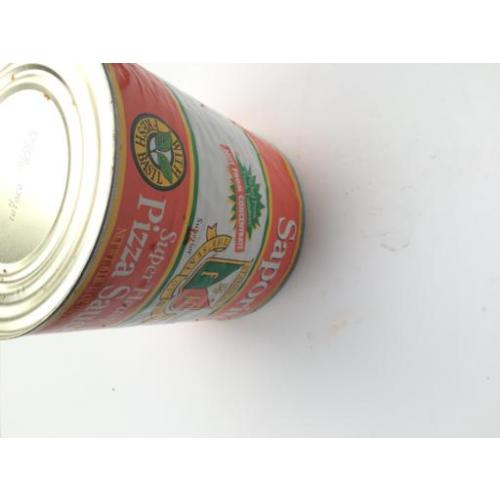metal: (0, 59, 303, 325)
